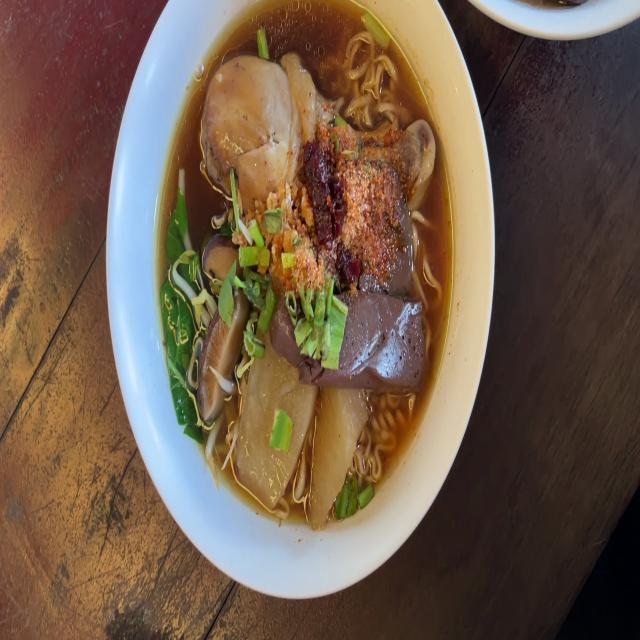boiled_chicken_blood_jelly: (334, 286, 427, 391)
chicken_drumstick: (194, 60, 438, 210)
daikon_radish: (245, 373, 362, 507)
noodle: (143, 0, 466, 526)
